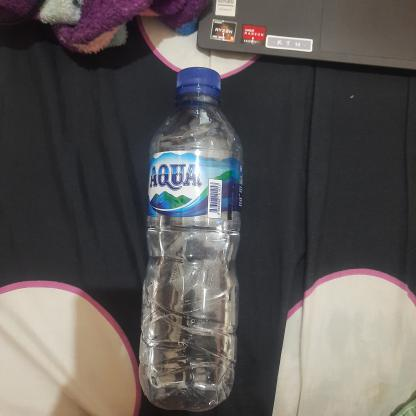plastic: (131, 64, 250, 409)
